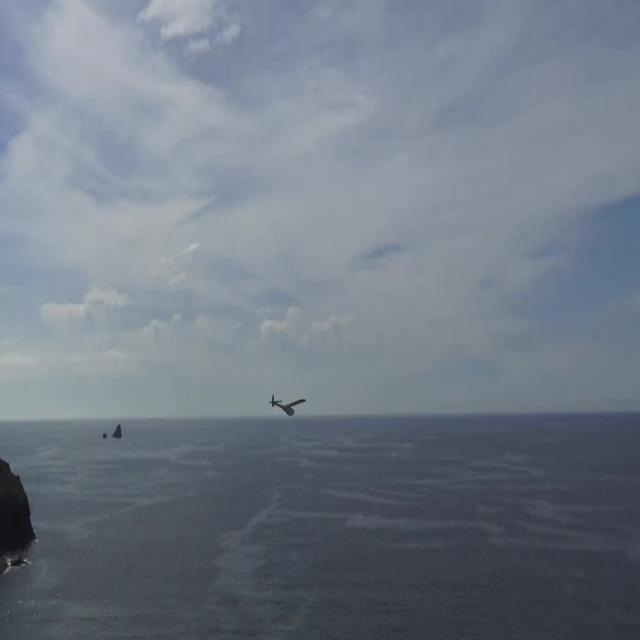iha: (268, 394, 306, 418)
